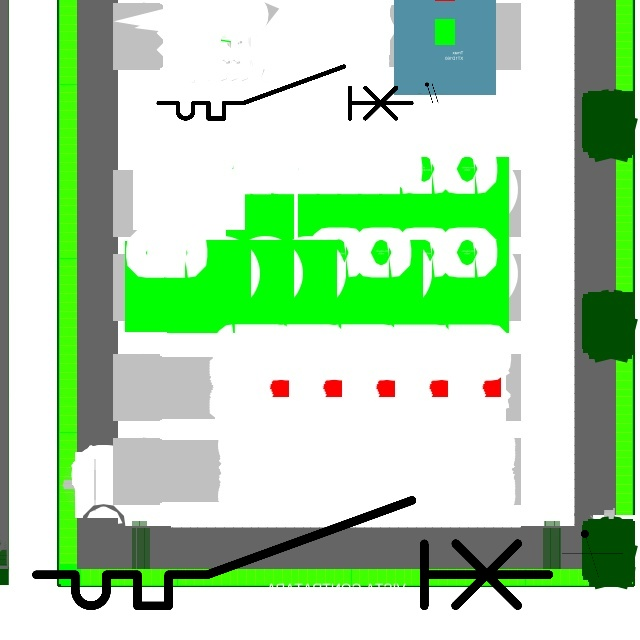interruptor_termomagnetico: (23, 487, 562, 619), (152, 60, 418, 125)
